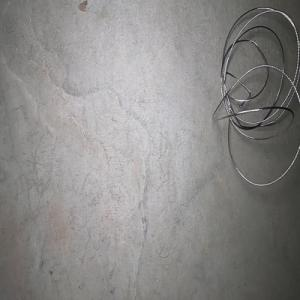Wire: (211, 6, 300, 186)
